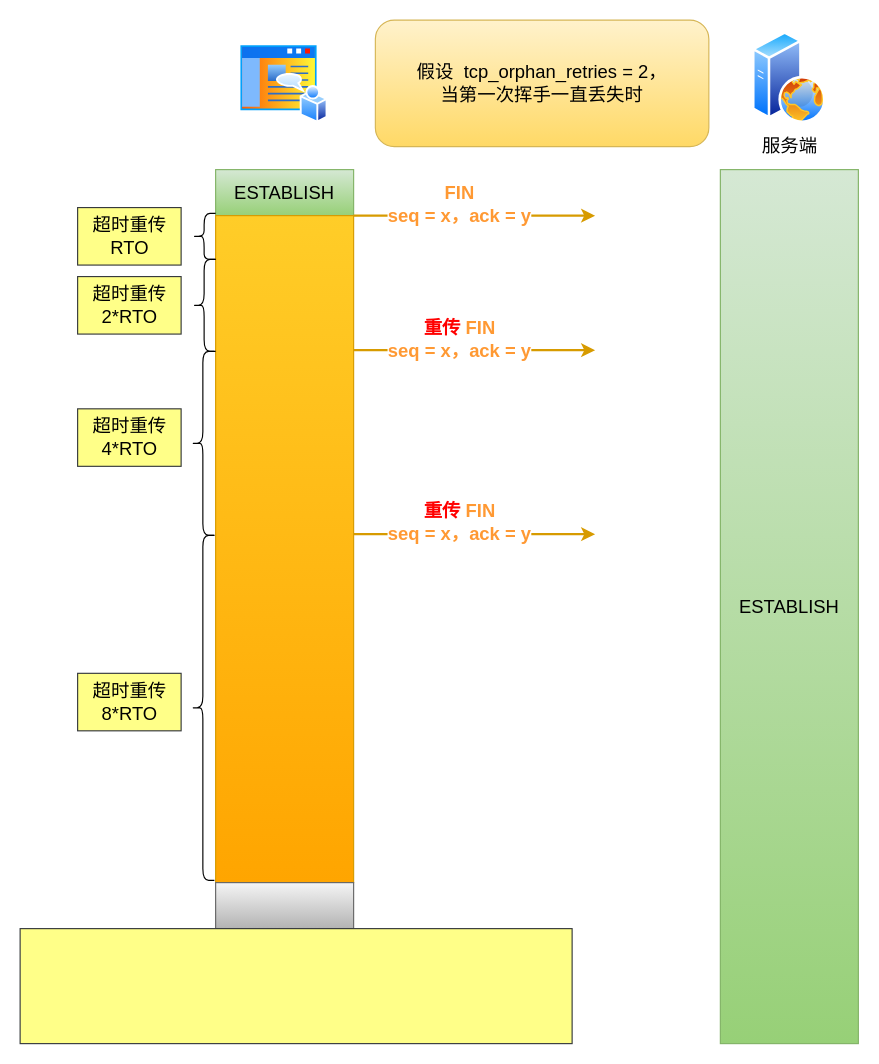
The diagram is 879 pixels wide and 1064 high, and some of its shapes have lost their labels. Each missing label, with the centre of its shape:
"CLOSE" goes at point (284, 905).
"FIN 报文重传次数， 如超过 tcp_orphan_retries 参数的值， 则会在等待一段时间， 还是没能收到第二次挥手的话， 就会断开连接" goes at point (295, 985).
"FIN_WAIT_1" goes at point (284, 548).
"客户端" goes at point (283, 83).
